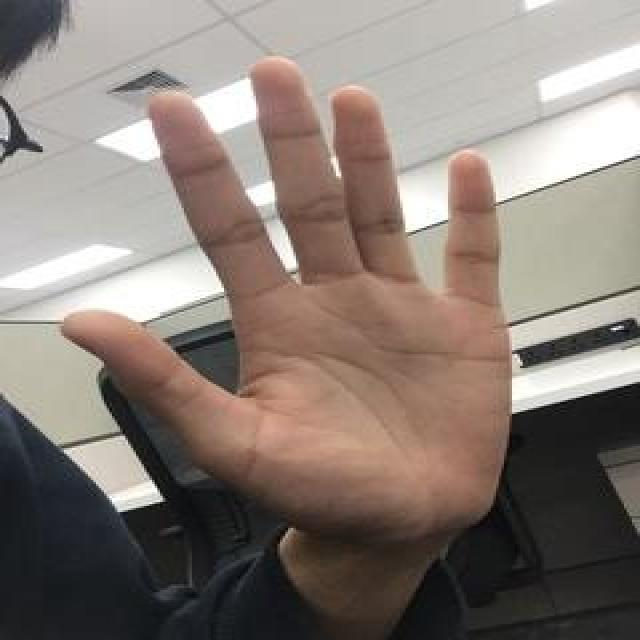hand: (59, 53, 518, 640)
